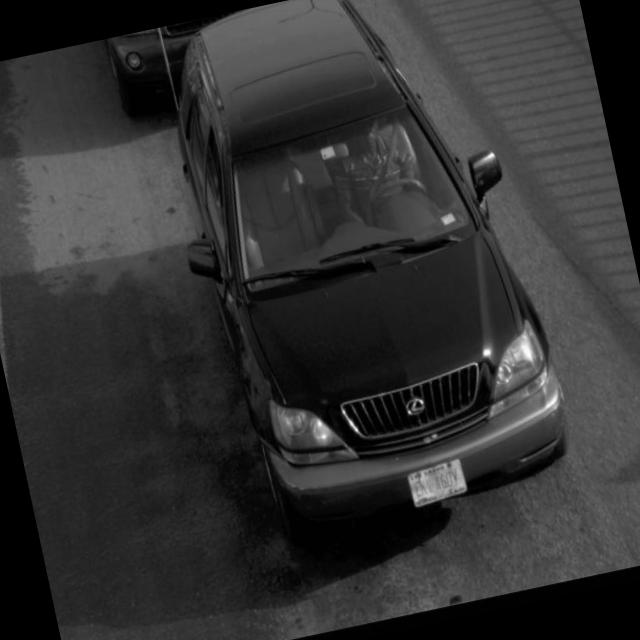person_with_seatbelt: (314, 87, 452, 255)
